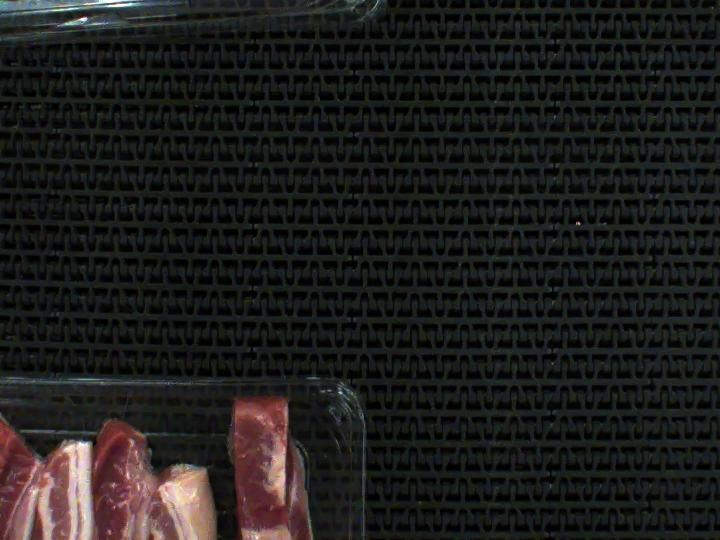loose-meat: (213, 388, 356, 540)
twisted-meat: (221, 403, 354, 540)
